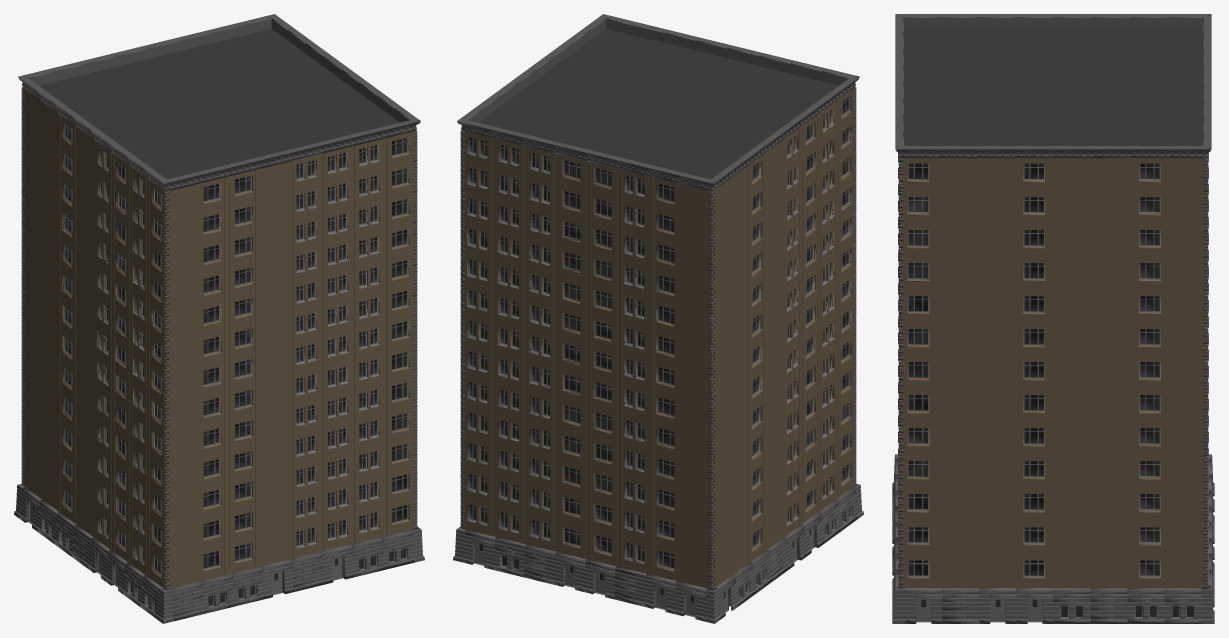
Rendered from PredioGenericoPlaceHolder.fbx.
3 renders of one model, left to right at view 1: azimuth 30°, elevation 25°; view 2: azimuth 150°, elevation 25°; view 3: azimuth 270°, elevation 25°, orthographic. The views are drawn at different scales.
Visible parts, largest first — view 1: PredioGenericoPlaceHolder; view 2: PredioGenericoPlaceHolder; view 3: PredioGenericoPlaceHolder.
Part boxes in pixels (x1,y1,x2,y2): PredioGenericoPlaceHolder: (14,14,424,623); PredioGenericoPlaceHolder: (453,14,863,623); PredioGenericoPlaceHolder: (892,14,1214,623).
Size of the model in its own units: 2685 by 4301 by 2652.
